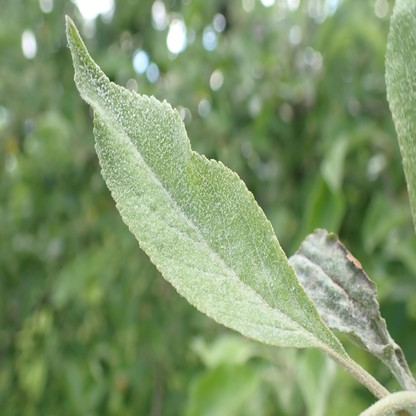powder: (65, 14, 344, 355), (288, 228, 393, 356), (386, 1, 414, 227)
